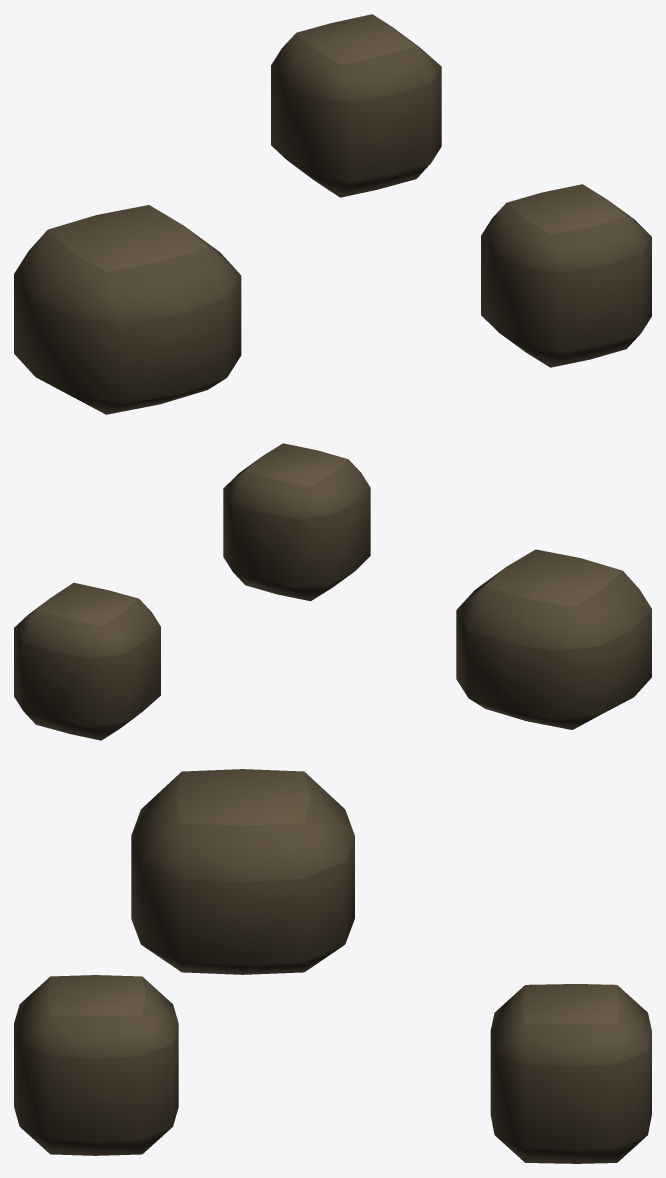
Rendered from deco_desert_pebbles_1.fbx.
3 views of the same model, one above another, from view 1: azimuth 30°, elevation 25°; view 2: azimuth 150°, elevation 25°; view 3: azimuth 270°, elevation 25° (orthographic). The views are drawn at different scales.
Visible parts, largest first — view 1: deco_desert_pebbles1_1_LOD0; view 2: deco_desert_pebbles1_1_LOD0; view 3: deco_desert_pebbles1_1_LOD0.
Boxes of the visible parts, <box> form: deco_desert_pebbles1_1_LOD0: <box>14,14,651,414</box>; deco_desert_pebbles1_1_LOD0: <box>14,443,651,740</box>; deco_desert_pebbles1_1_LOD0: <box>14,769,651,1163</box>.
Size of what is drawn, in the model's own units: 56.96 by 14.24 by 55.19.
